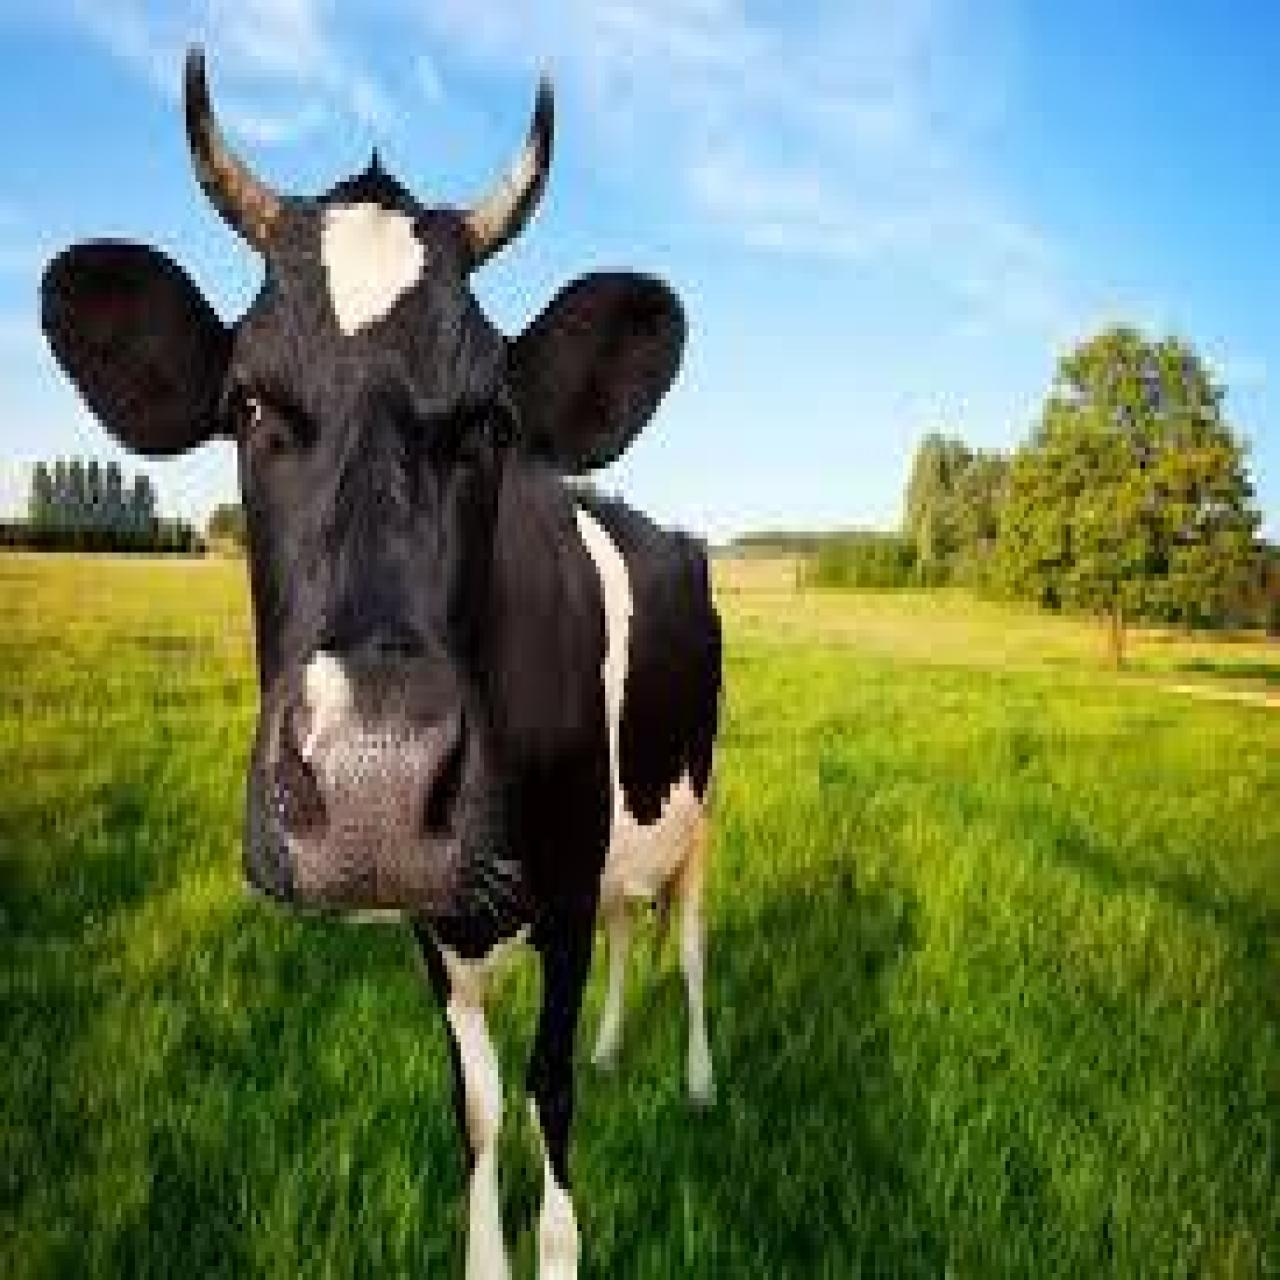cow: (45, 175, 723, 1280)
